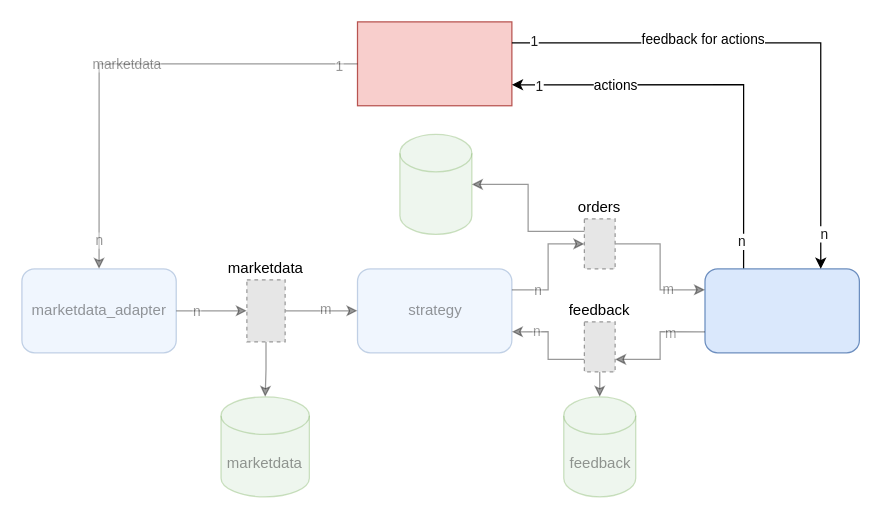
The diagram is 881 pixels wide and 519 high, and some of its shapes have lost their labels. Grey dashed boxes stand in for pictures. The shapes that lost their labels are listed below. From the top down, each one's centre as x and y in pixels, then its label:
the point at 434,63: Exchange
the point at 435,183: strategy actions
the point at 781,310: order_execution
